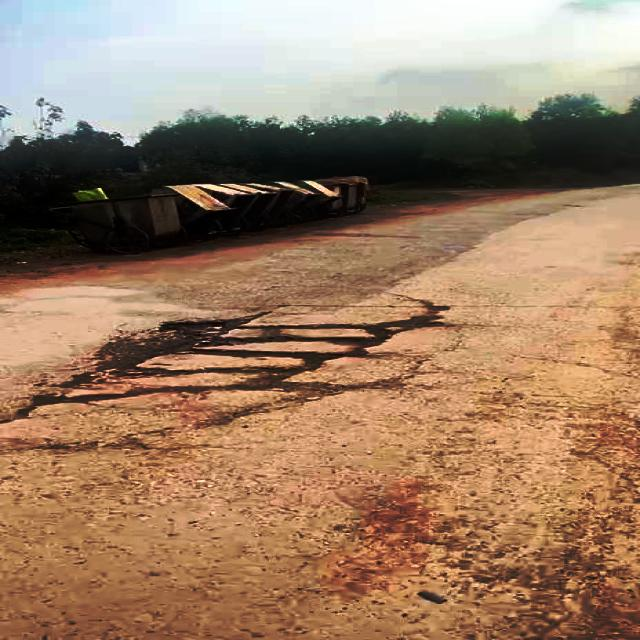pothole: (8, 300, 458, 409)
